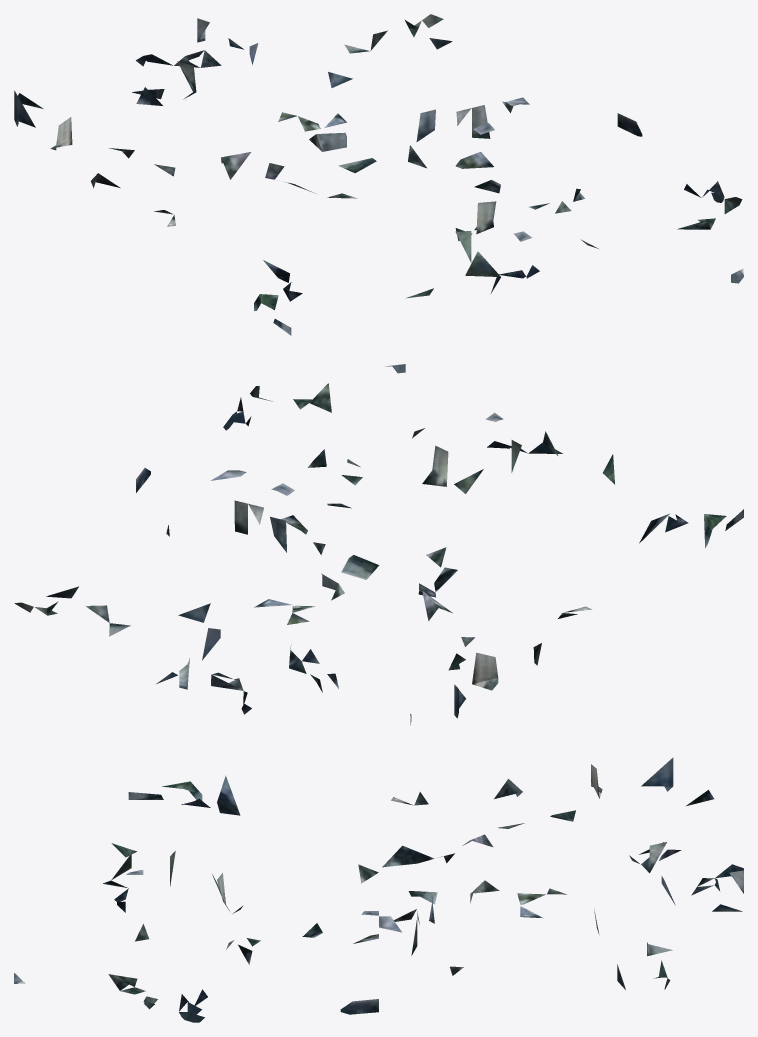
3 views of the same model, one above another, from view 1: azimuth 30°, elevation 25°; view 2: azimuth 150°, elevation 25°; view 3: azimuth 270°, elevation 25° (orthographic). The views are drawn at different scales.
Parts seen in each view (by area): view 1: 3043627270437061_1; view 2: 3043627270437061_1; view 3: 3043627270437061_1.
Part boxes in pixels (box(x1,y1,x2,y2)): 3043627270437061_1: box(14, 14, 743, 335); 3043627270437061_1: box(14, 364, 743, 724); 3043627270437061_1: box(14, 757, 743, 1022).
Size of the model in its own units: 437 by 49.43 by 612.
Materials: 1 (1 with a texture image).
